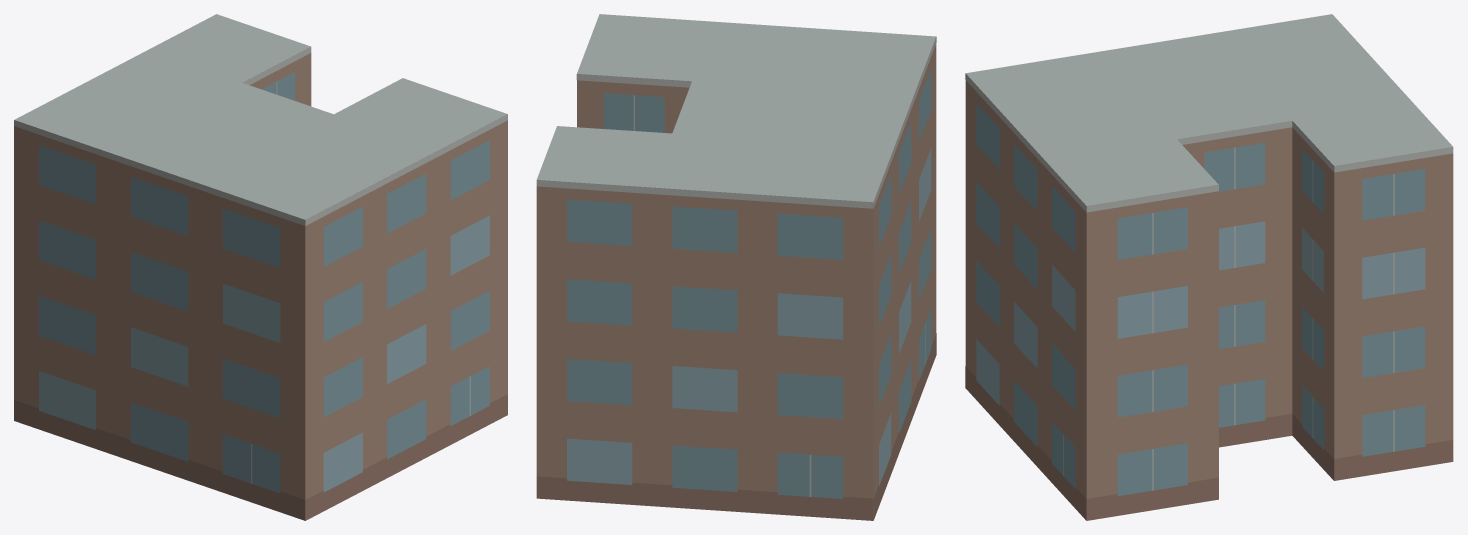
The model's file is survey-upis-32979466.glb.
3 views of the same model, side by side, from view 1: azimuth 30°, elevation 25°; view 2: azimuth 150°, elevation 25°; view 3: azimuth 270°, elevation 25° (orthographic). The views are drawn at different scales.
Parts seen in each view (by area): view 1: survey-upis-32979466.tmp; view 2: survey-upis-32979466.tmp; view 3: survey-upis-32979466.tmp.
Boxes of the visible parts, x1,y1,x2,y2 form: survey-upis-32979466.tmp: (14,14,507,520); survey-upis-32979466.tmp: (536,14,936,520); survey-upis-32979466.tmp: (965,14,1453,520).
Bounding box in the file's own units: 15.58 × 11.9 × 16.73.
